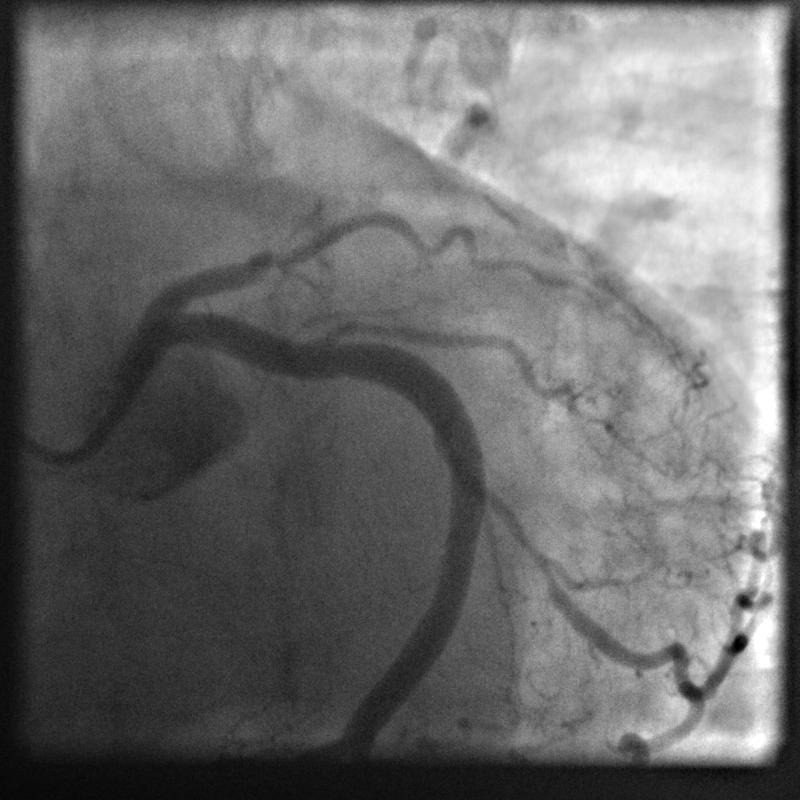Stenosis: (475, 451, 575, 604)
